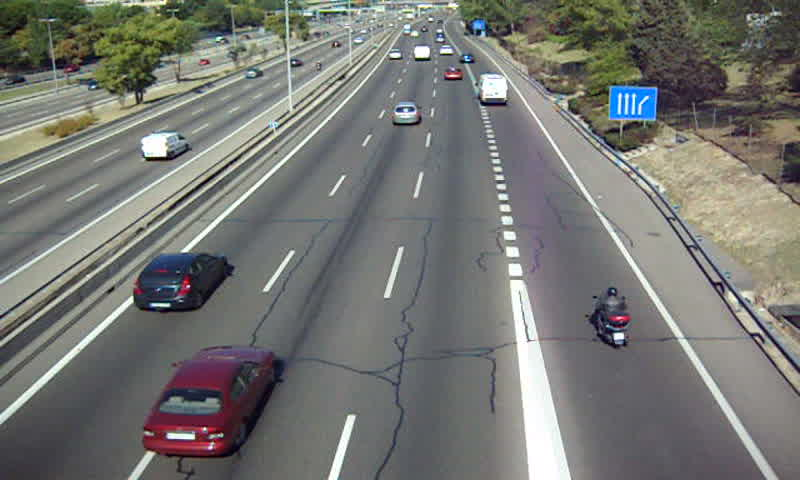car: (144, 346, 277, 454), (132, 252, 226, 311), (389, 102, 420, 128), (441, 66, 463, 82), (459, 51, 476, 64), (439, 44, 454, 56), (389, 48, 402, 61)
motorcycle: (592, 286, 630, 350)
van: (477, 73, 508, 103), (412, 45, 429, 61)
